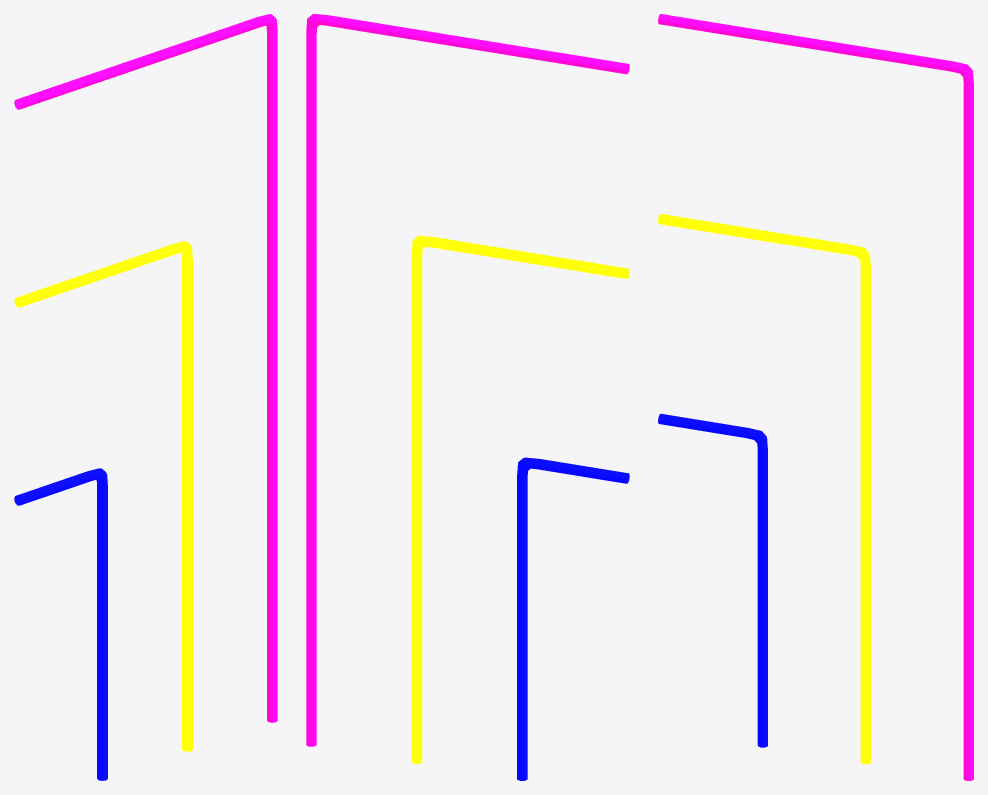
Rendered from 1StageIllum-RopeLights.glb.
3 views of the same model, side by side, from view 1: azimuth 30°, elevation 25°; view 2: azimuth 150°, elevation 25°; view 3: azimuth 330°, elevation 25° (orthographic). The views are drawn at different scales.
Parts seen in each view (by area): view 1: RopeLights; view 2: RopeLights; view 3: RopeLights.
Boxes of the visible parts, box(x1,y1,x2,y2) form: RopeLights: box(14, 14, 277, 780); RopeLights: box(306, 14, 629, 780); RopeLights: box(658, 14, 973, 780).
Size of the model in its own units: 0.6041 by 1.43 by 0.1136.
